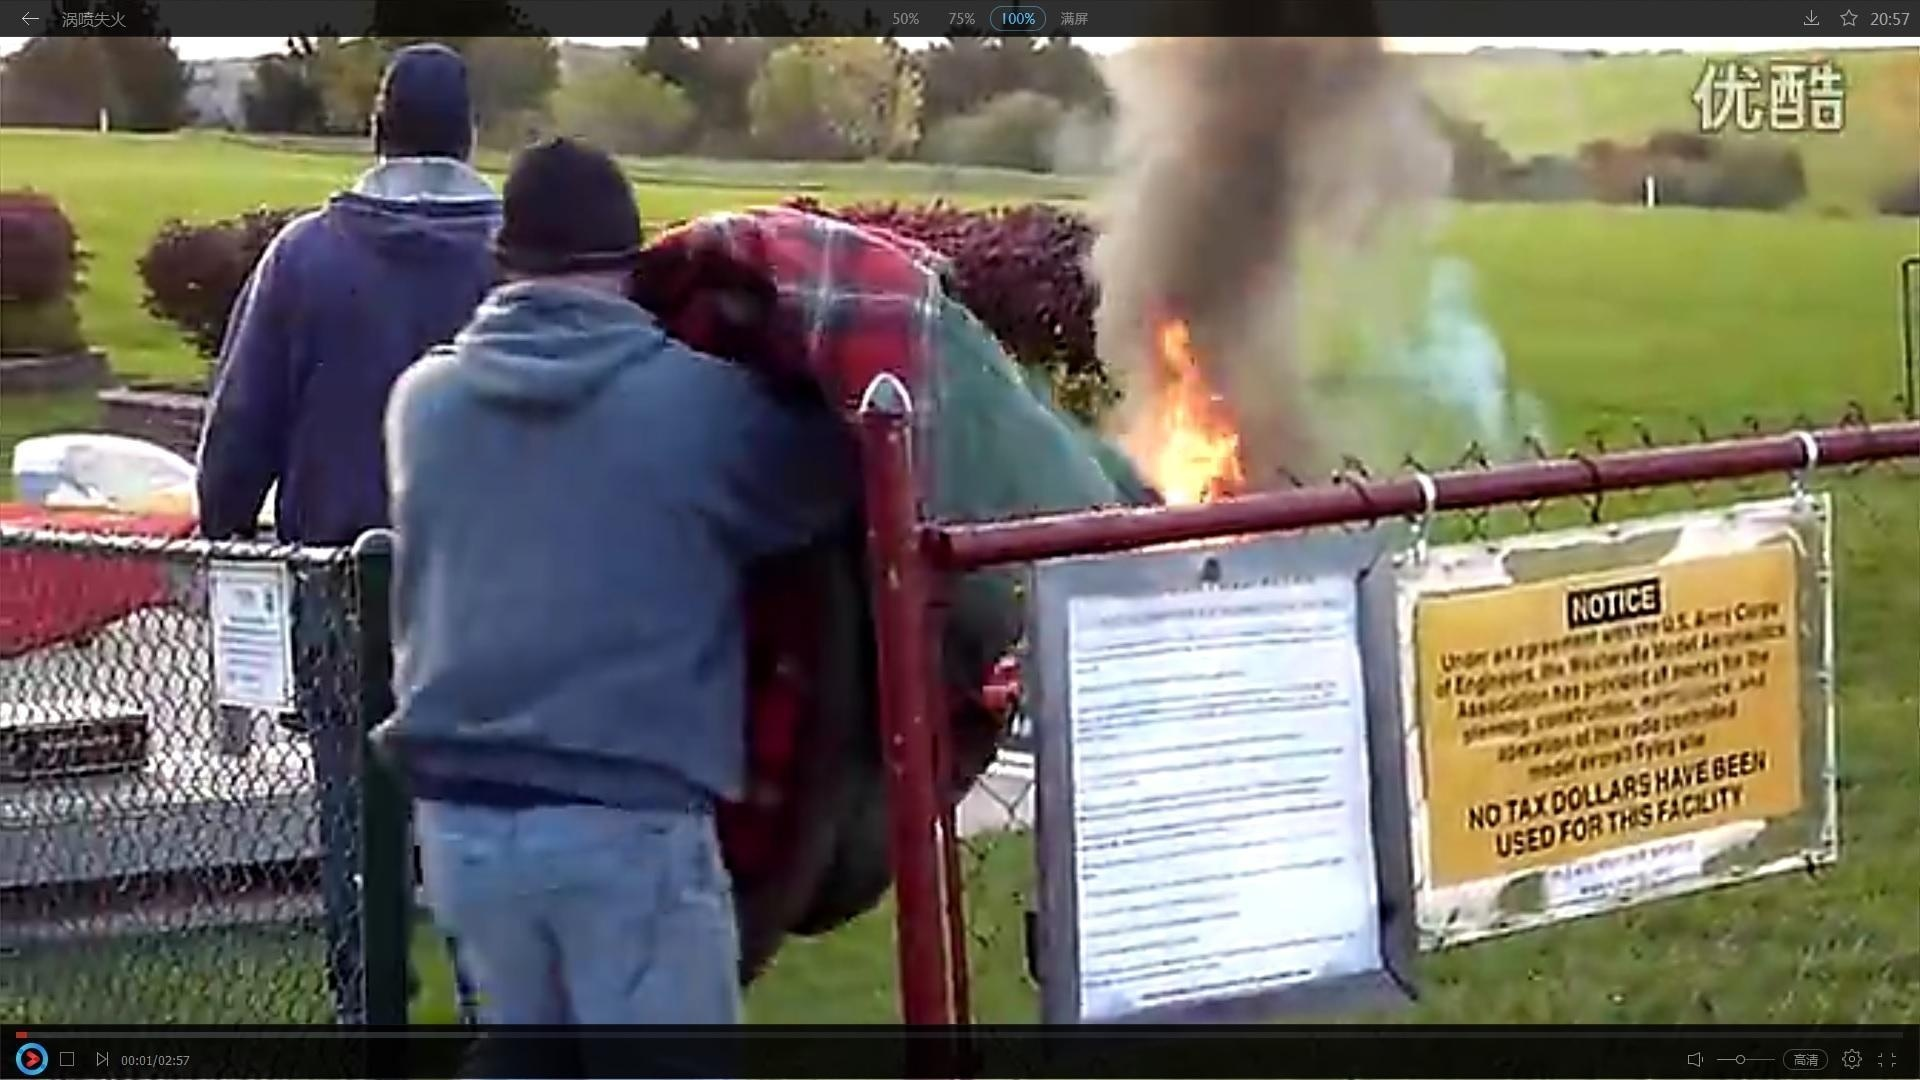fire: (1131, 318, 1242, 508)
